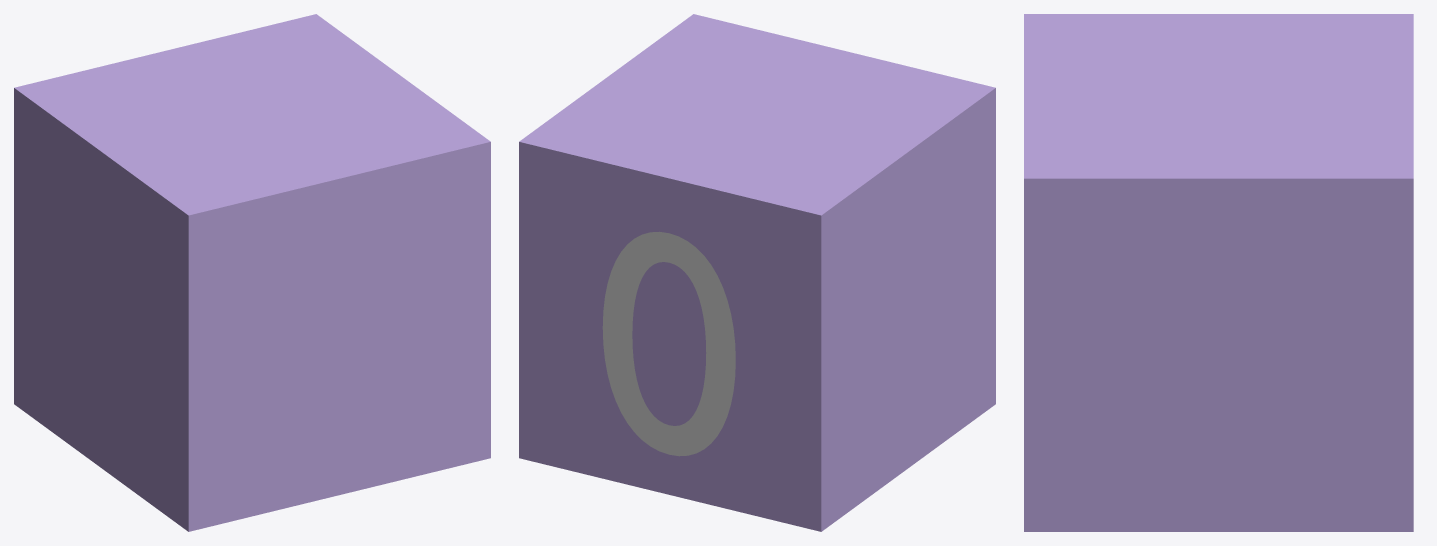
The model's file is Square.fbx.
3 renders of one model, left to right at view 1: azimuth 30°, elevation 25°; view 2: azimuth 150°, elevation 25°; view 3: azimuth 270°, elevation 25°, orthographic. The views are drawn at different scales.
Parts seen in each view (by area): view 1: Cube; view 2: Cube, Test; view 3: Cube.
Part boxes in pixels (x1,y1,x2,y2): Cube: [14, 14, 490, 531]; Cube: [519, 14, 995, 531]; Test: [602, 231, 735, 456]; Cube: [1024, 14, 1413, 531].
Bounding box in the file's own units: 100 × 100 × 102.
